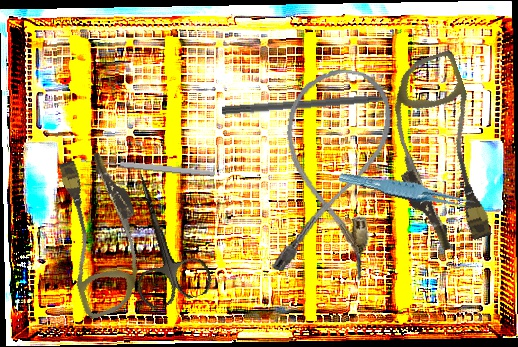Cannula: (264, 61, 399, 285), (367, 49, 513, 256), (39, 147, 162, 321)
Iris Scissors: (107, 163, 215, 312)
Pusher: (221, 92, 416, 117)
Surgical Spoon: (80, 156, 216, 178)
Tissue Forceps: (337, 162, 479, 221)
